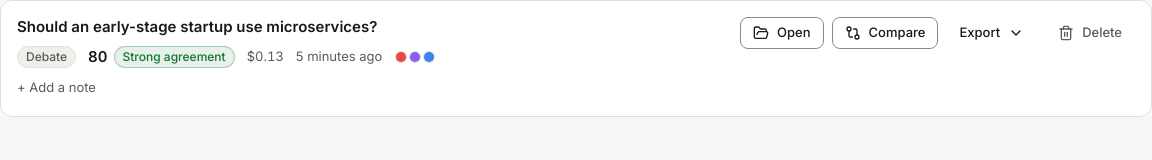
RunRow › adds a note on Enter
Click the button "+ Add a note". click: (56, 88)
box: [13, 76, 100, 100]
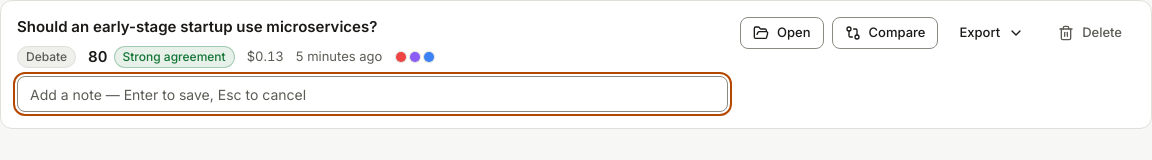
Type "  Re-run with a judge  " into the field named "Note for". click: (373, 94)
box: [17, 76, 728, 112]
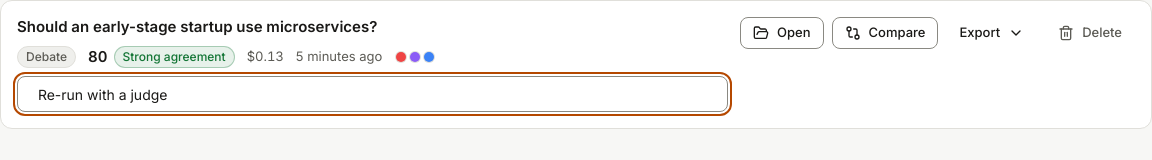
Press Enter in the field named "Note for", box [17, 76, 728, 112]
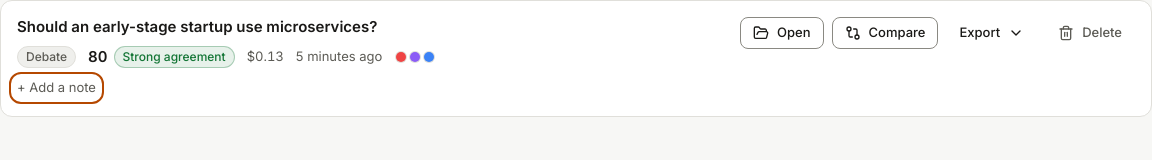
Now the field is gone
